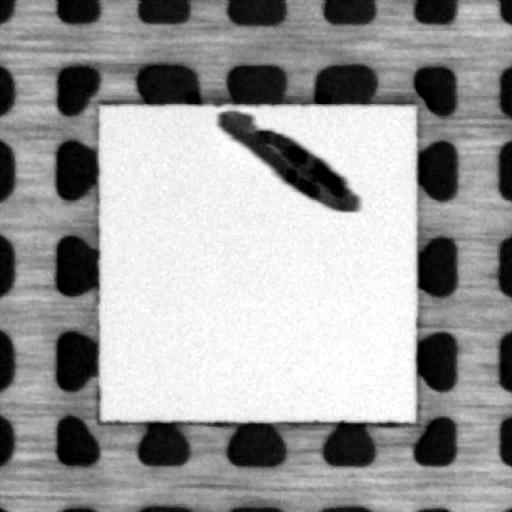DIE_INK: (204, 103, 369, 217)
